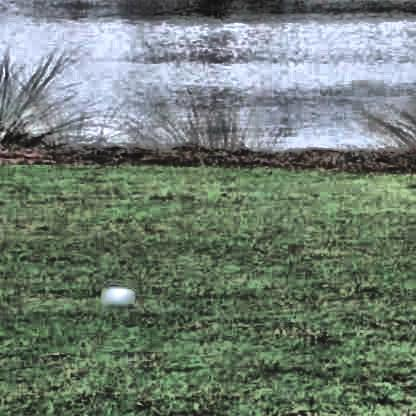golfball: (99, 283, 133, 303)
